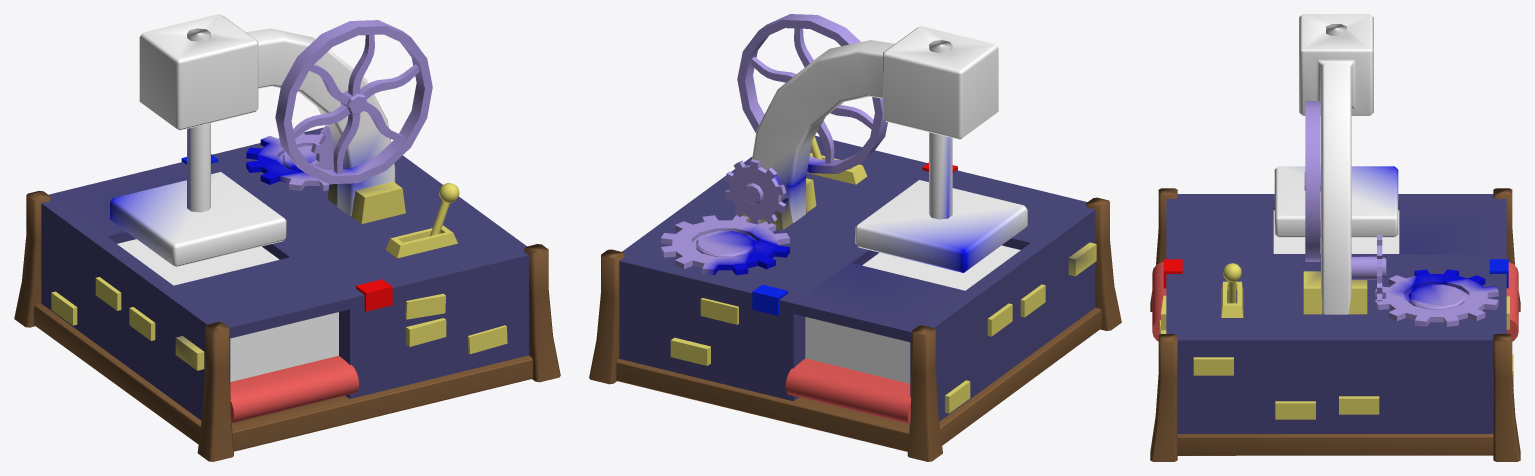
Rendered from Balista_Tartak_Kamieniolom.fbx.
The picture shows the model from 3 angles, left to right: view 1: azimuth 30°, elevation 25°; view 2: azimuth 150°, elevation 25°; view 3: azimuth 270°, elevation 25°; orthographic projection. The views are drawn at different scales.
Parts seen in each view (by area): view 1: Cylinder.001, Cylinder.005, Cylinder.006, Cylinder.011, Cylinder.010, Cylinder.018; view 2: Cylinder.001, Cylinder.005, Cylinder.006, Cylinder.011, Cylinder.010; view 3: Cylinder.001, Cylinder.005, Cylinder.011, Cylinder.006, Cylinder.010, Cylinder.018.
Part boxes in pixels (x1,y1,x2,y2): Cylinder.001: [14, 14, 560, 461]; Cylinder.005: [110, 28, 286, 267]; Cylinder.006: [275, 20, 432, 184]; Cylinder.011: [246, 132, 329, 190]; Cylinder.010: [311, 125, 334, 169]; Cylinder.018: [430, 182, 459, 235]; Cylinder.001: [589, 26, 1121, 461]; Cylinder.005: [855, 40, 1027, 272]; Cylinder.006: [737, 14, 887, 173]; Cylinder.011: [661, 215, 789, 275]; Cylinder.010: [724, 159, 786, 224]; Cylinder.001: [1150, 14, 1520, 461]; Cylinder.005: [1274, 24, 1398, 237]; Cylinder.011: [1375, 269, 1498, 326]; Cylinder.006: [1304, 101, 1320, 261]; Cylinder.010: [1351, 235, 1386, 301]; Cylinder.018: [1223, 263, 1241, 303].
Size of the model in its own units: 200 by 182 by 195.
